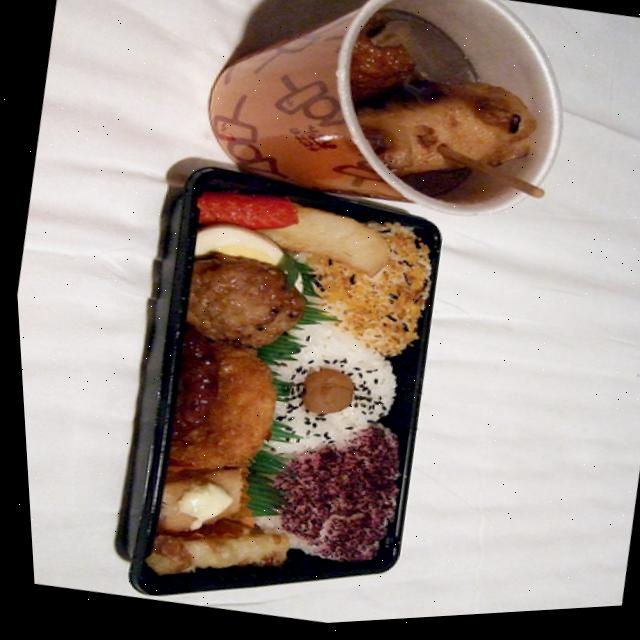汤锅炖物: (323, 2, 576, 217)
